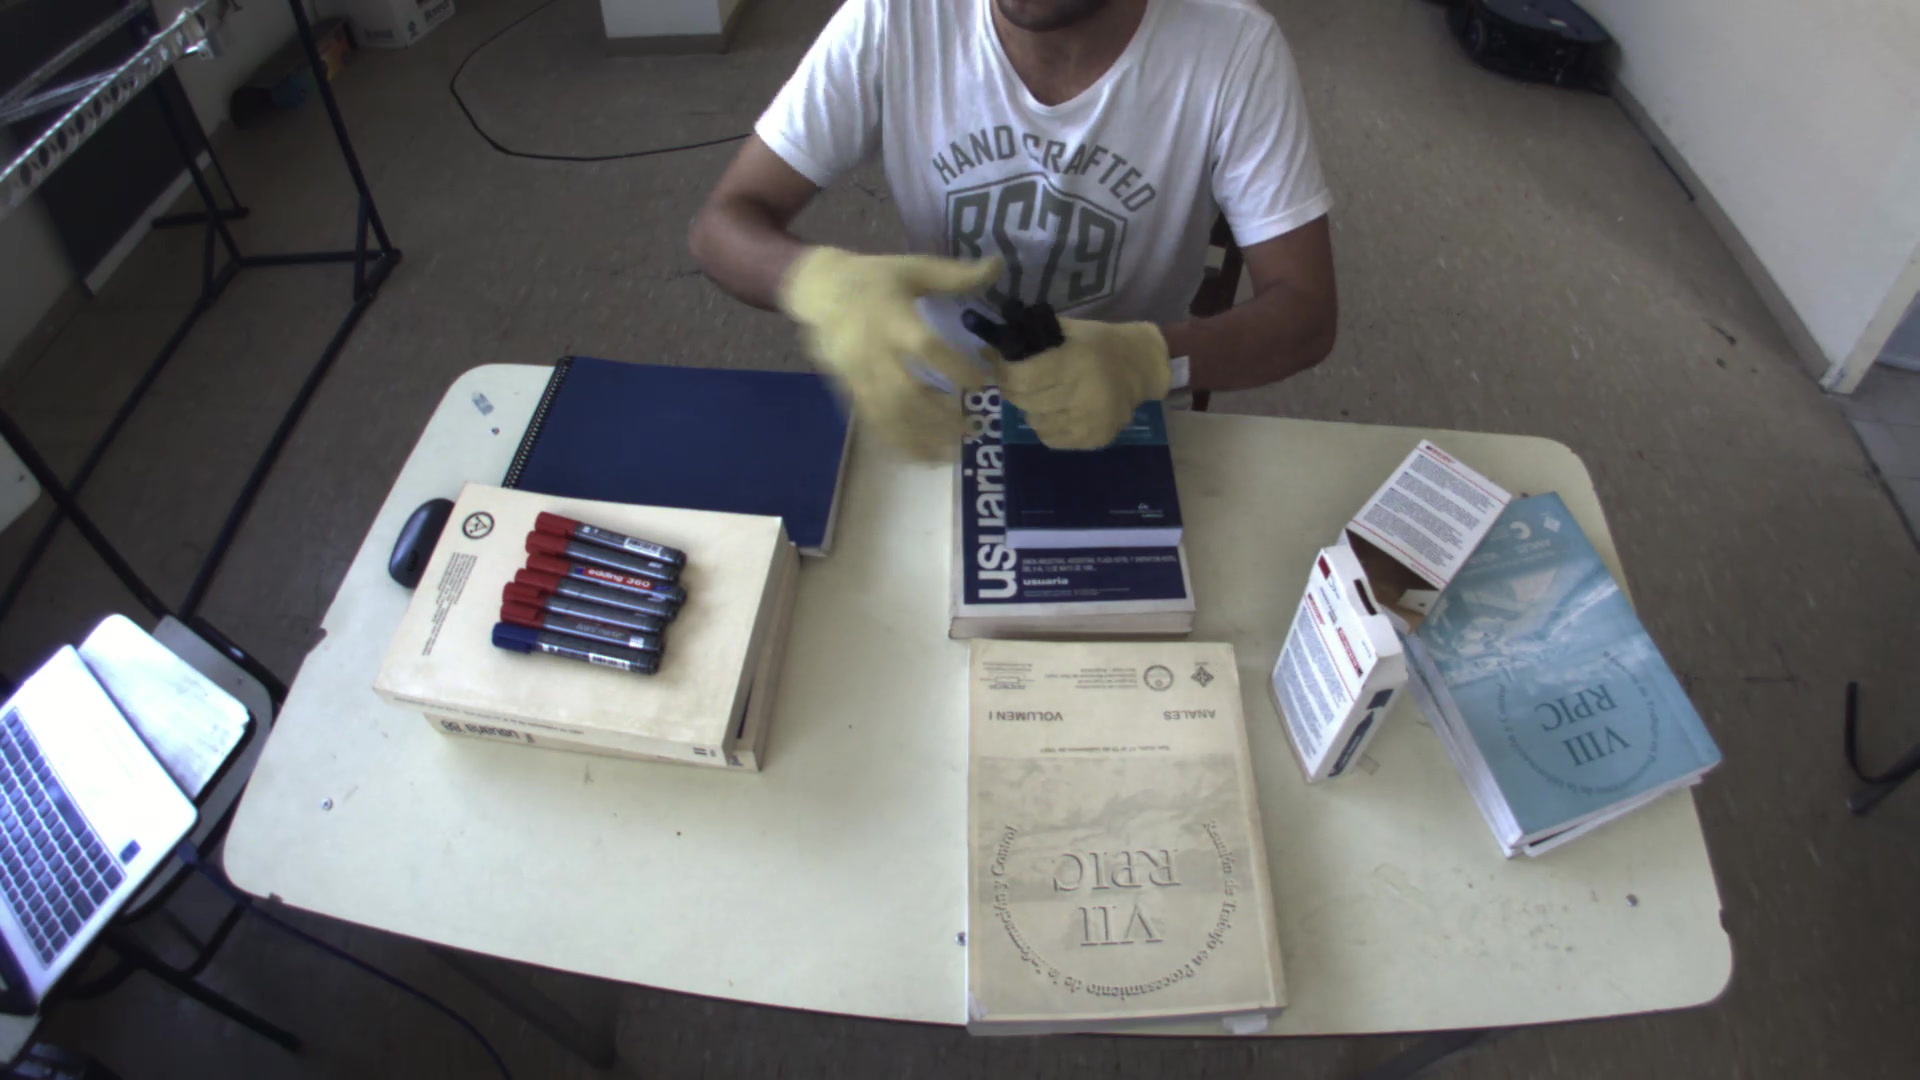hand: (988, 298, 1182, 456)
